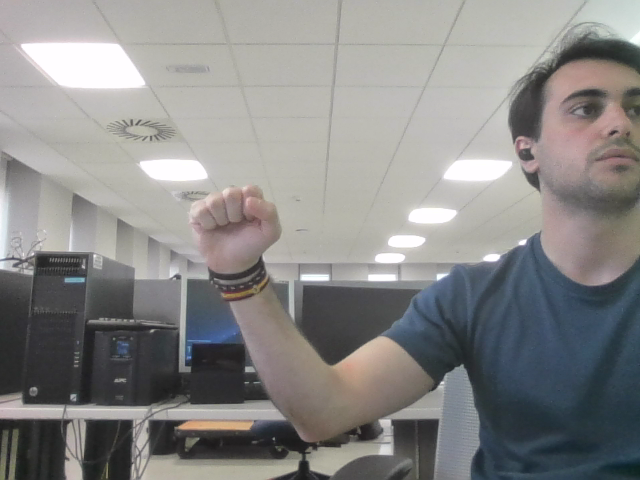Puño: (202, 191, 267, 253)
